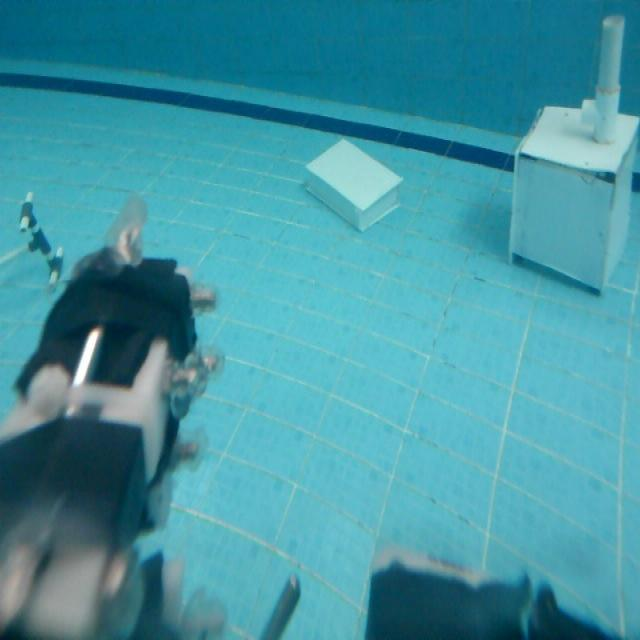Cube: (507, 99, 640, 301)
Cuboid: (302, 133, 404, 232)
